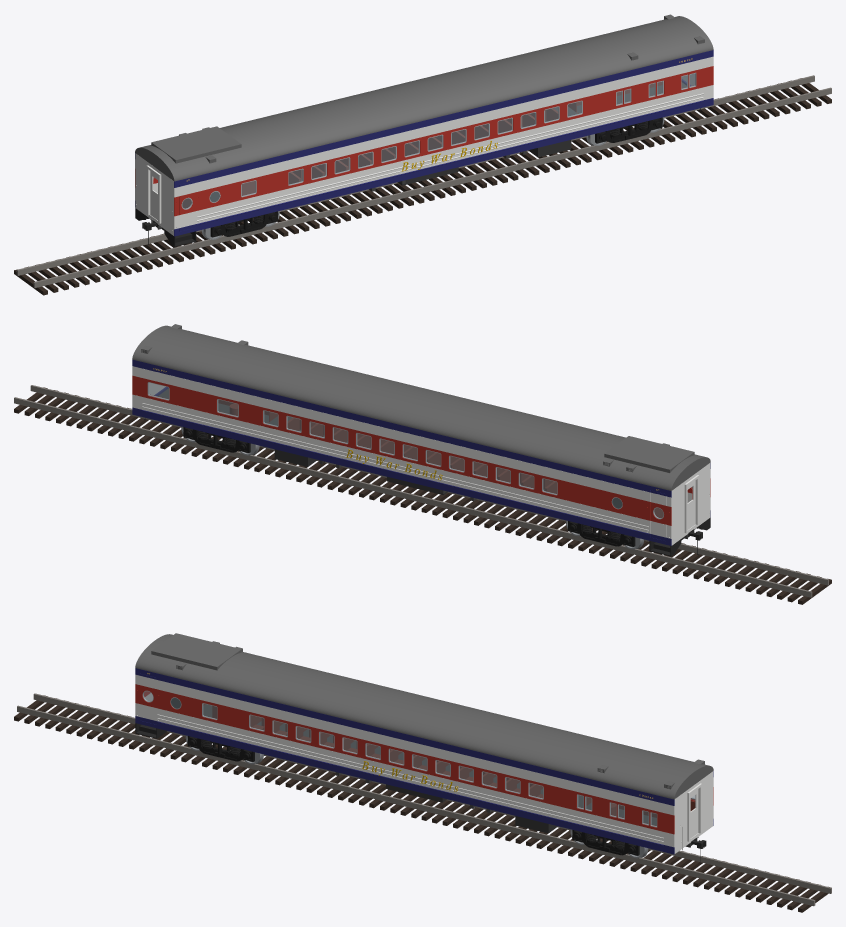
The model's file is MR1942_WarBondCoach_G.glb.
The picture shows the model from 3 angles, top to bottom: view 1: azimuth 30°, elevation 25°; view 2: azimuth 150°, elevation 25°; view 3: azimuth 330°, elevation 25°; orthographic projection.
Parts seen in each view (by area): view 1: roof, orange, ties, upper, rails, maroon, glass, interior, trucks, rims, equipment; view 2: roof, orange, ties, upper, rails, maroon, glass, interior, trucks, rims, equipment; view 3: roof, orange, ties, upper, rails, maroon, glass, interior, trucks, rims, floor, equipment.
Boxes of the visible parts, <box> form: roof: <box>135,14,713,181</box>; orange: <box>135,56,713,235</box>; ties: <box>14,78,831,295</box>; upper: <box>135,50,713,236</box>; rails: <box>16,75,831,288</box>; maroon: <box>135,66,713,216</box>; glass: <box>153,73,695,208</box>; interior: <box>182,81,694,208</box>; trucks: <box>210,117,662,237</box>; rims: <box>181,72,696,209</box>; equipment: <box>397,140,571,185</box>; roof: <box>132,324,710,490</box>; orange: <box>132,366,710,545</box>; ties: <box>14,387,831,604</box>; upper: <box>132,359,710,545</box>; rails: <box>14,385,828,597</box>; maroon: <box>132,375,710,525</box>; glass: <box>148,382,692,518</box>; interior: <box>150,394,663,517</box>; trucks: <box>183,427,635,546</box>; rims: <box>147,382,692,519</box>; equipment: <box>274,449,447,495</box>; roof: <box>135,633,713,799</box>; orange: <box>135,674,713,853</box>; ties: <box>14,695,829,912</box>; upper: <box>135,668,713,854</box>; rails: <box>17,693,831,906</box>; maroon: <box>135,684,713,834</box>; glass: <box>143,691,695,826</box>; interior: <box>203,704,695,825</box>; trucks: <box>187,736,639,855</box>; rims: <box>142,690,694,827</box>; floor: <box>203,704,698,847</box>; equipment: <box>386,784,557,833</box>.
Bounding box in the file's own units: 1.24 × 0.1488 × 0.1071.
